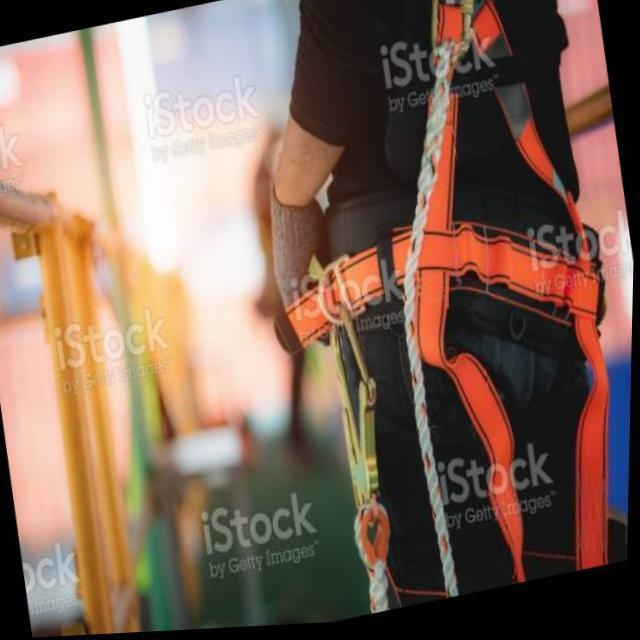Arnes_seguridad: (272, 0, 611, 609)
